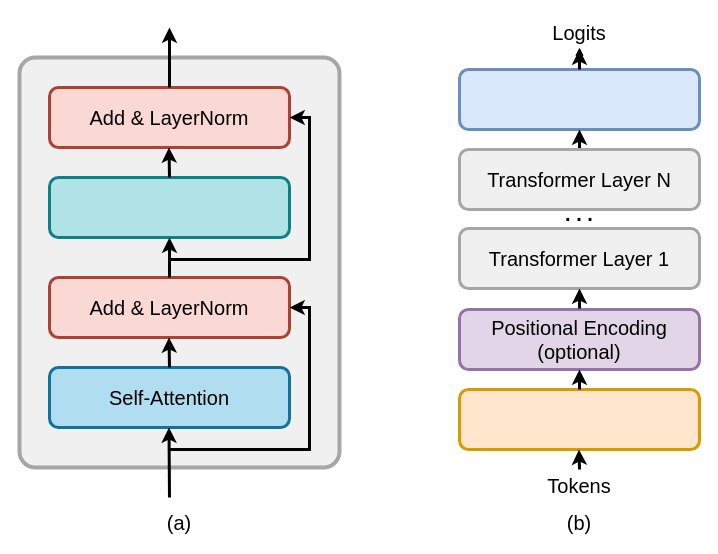
The diagram is 718 pixels wide and 554 high, and some of its shapes have lost their labels. The shapes that lost their labels are listed below. From the top down, each one's centre as x and y in pixels, then its label:
(579,99): Linear
(169,207): Feed-forward Network
(579,419): Embedding
